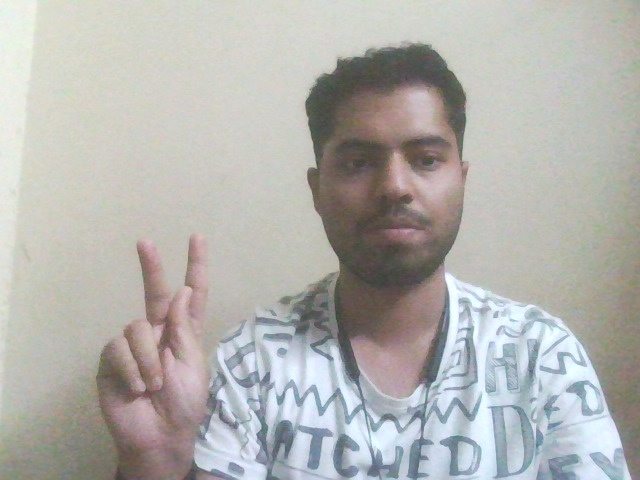M: (77, 201, 246, 469)
